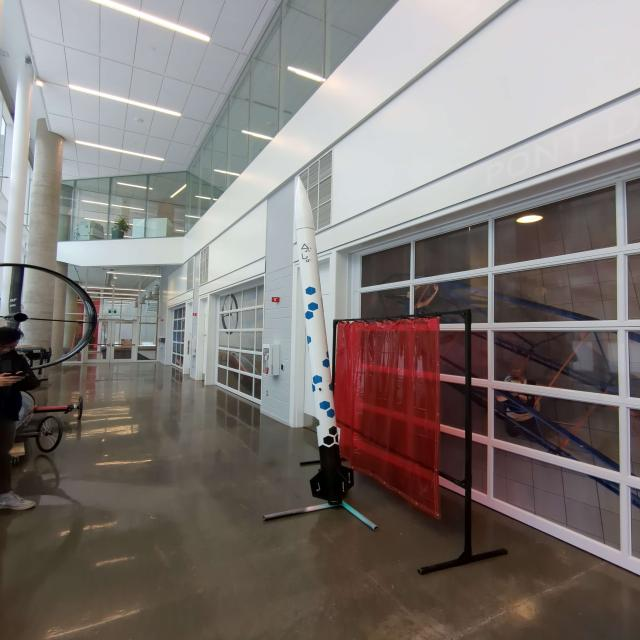Rocket: (294, 175, 354, 506)
